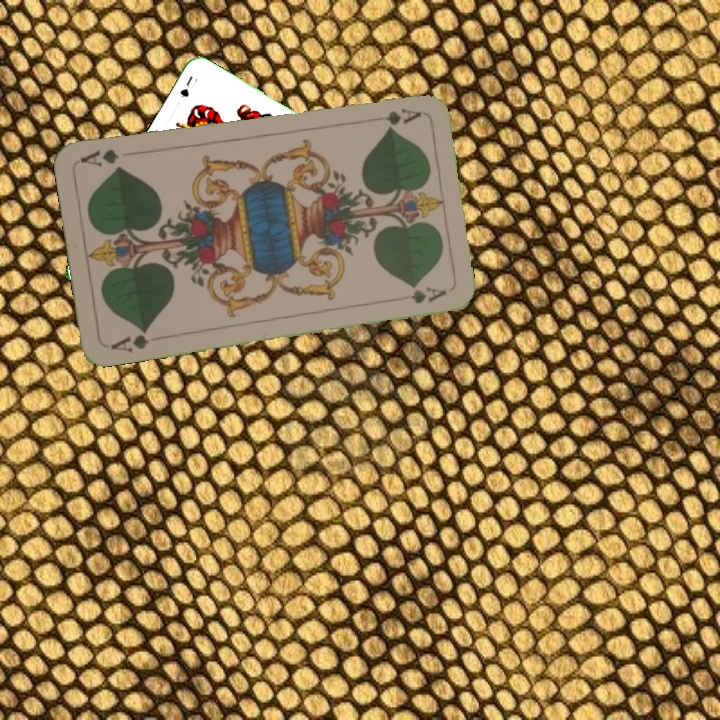GA: (364, 104, 424, 128), (107, 325, 152, 355)
GU: (176, 71, 195, 101)
